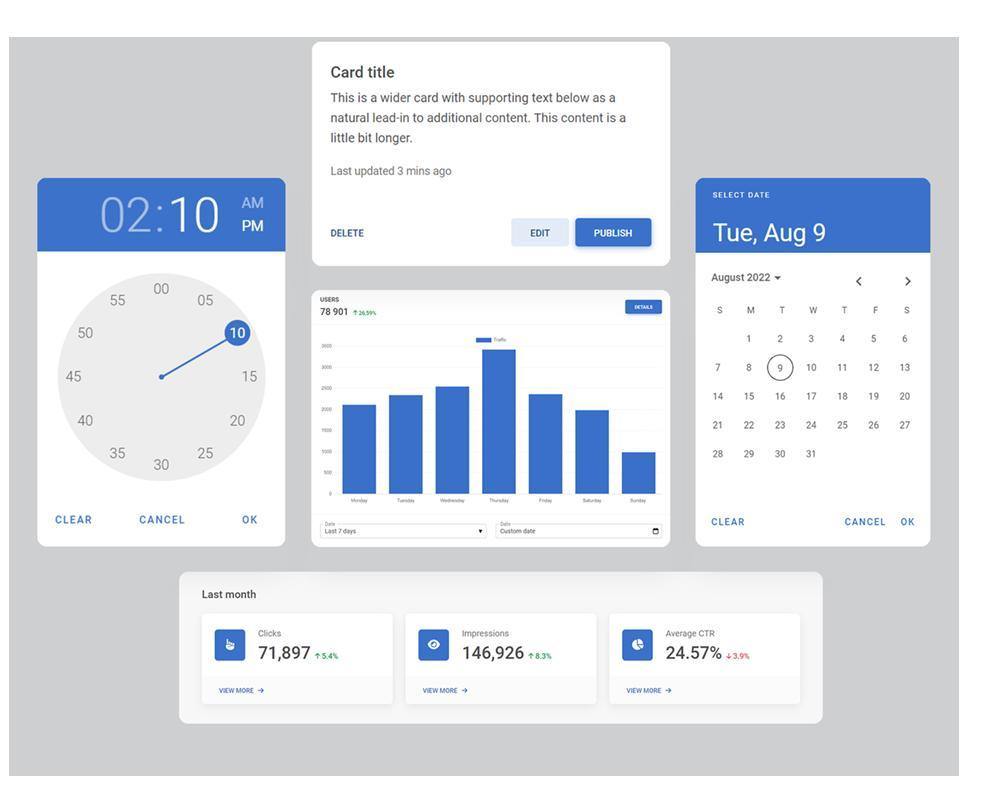button: (577, 219, 653, 248), (514, 220, 571, 247), (626, 300, 664, 316)
dropdown: (319, 527, 490, 540)
icon: (632, 637, 648, 654), (224, 638, 237, 653), (904, 275, 915, 292), (427, 639, 442, 651), (855, 273, 865, 291)
input: (496, 523, 664, 540)
